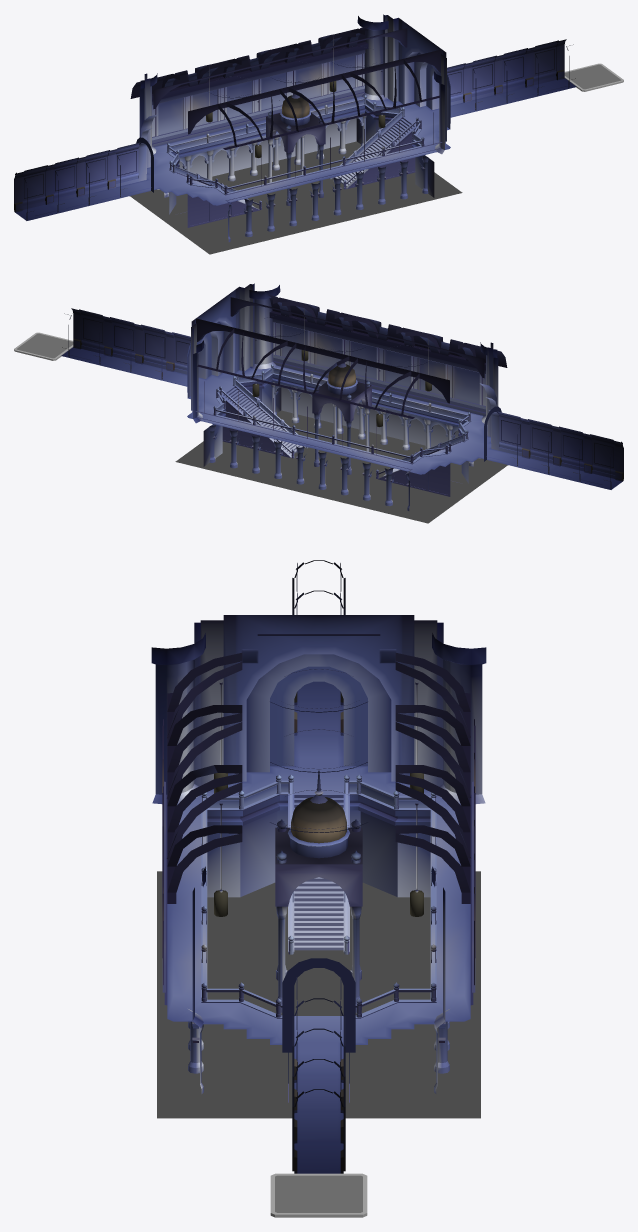
Rendered from NPRotatingRoomUpright.gltf.
The picture shows the model from 3 angles, top to bottom: view 1: azimuth 30°, elevation 25°; view 2: azimuth 150°, elevation 25°; view 3: azimuth 270°, elevation 25°; orthographic projection. The views are drawn at different scales.
Visible parts, largest first — view 1: stg071_o25_Mesh_0021, stg071_w25_Mesh_0000, stg071_o25_Mesh_0015, stg071_o25_Mesh_0034, stg071_o25_Mesh_0002, stg071_o25_Mesh_0060, stg071_o25_Mesh_0001, stg071_o25_Mesh_0007, stg071_o25_Mesh_0048, stg071_o25_Mesh_0058, stg071_o25_Mesh_0000, stg071_o25_Mesh_0041 (+8 smaller); view 2: stg071_o25_Mesh_0021, stg071_w25_Mesh_0000, stg071_o25_Mesh_0015, stg071_o25_Mesh_0034, stg071_o25_Mesh_0002, stg071_o25_Mesh_0060, stg071_o25_Mesh_0001, stg071_o25_Mesh_0007, stg071_o25_Mesh_0048, stg071_o25_Mesh_0058, stg071_o25_Mesh_0000, stg071_o25_Mesh_0041 (+8 smaller); view 3: stg071_w25_Mesh_0000, stg071_o25_Mesh_0034, stg071_o25_Mesh_0021, stg071_o25_Mesh_0015, stg071_o25_Mesh_0001, stg071_o25_Mesh_0058, stg071_o25_Mesh_0060, stg071_o25_Mesh_0030, stg071_o25_Mesh_0041, stg071_o25_Mesh_0009, stg071_o25_Mesh_0002, stg071_o25_Mesh_0048 (+8 smaller).
Part boxes in pixels (x1,y1,x2,y2): stg071_o25_Mesh_0021: (14,16,575,239); stg071_w25_Mesh_0000: (130,141,462,254); stg071_o25_Mesh_0015: (24,28,566,236); stg071_o25_Mesh_0034: (149,14,446,217); stg071_o25_Mesh_0002: (22,40,557,227); stg071_o25_Mesh_0060: (14,35,573,227); stg071_o25_Mesh_0001: (18,49,572,219); stg071_o25_Mesh_0007: (16,47,574,225); stg071_o25_Mesh_0048: (22,17,558,241); stg071_o25_Mesh_0058: (157,115,434,214); stg071_o25_Mesh_0000: (24,49,553,198); stg071_o25_Mesh_0041: (22,46,556,203); stg071_o25_Mesh_0021: (62,285,623,508); stg071_w25_Mesh_0000: (175,410,507,523); stg071_o25_Mesh_0015: (71,297,613,505); stg071_o25_Mesh_0034: (191,283,488,486); stg071_o25_Mesh_0002: (80,309,615,496); stg071_o25_Mesh_0060: (64,304,623,496); stg071_o25_Mesh_0001: (65,318,619,488); stg071_o25_Mesh_0007: (63,316,621,494); stg071_o25_Mesh_0048: (79,286,615,510); stg071_o25_Mesh_0058: (203,384,480,483); stg071_o25_Mesh_0000: (84,318,613,467); stg071_o25_Mesh_0041: (81,315,615,472); stg071_w25_Mesh_0000: (157,871,480,1117); stg071_o25_Mesh_0034: (167,615,470,1042); stg071_o25_Mesh_0021: (151,562,486,1173); stg071_o25_Mesh_0015: (155,634,482,1165); stg071_o25_Mesh_0001: (173,699,464,1171); stg071_o25_Mesh_0058: (207,635,430,897); stg071_o25_Mesh_0060: (164,560,473,1106); stg071_o25_Mesh_0030: (238,615,399,697); stg071_o25_Mesh_0041: (173,666,464,1041); stg071_o25_Mesh_0009: (167,689,470,1173); stg071_o25_Mesh_0002: (167,569,470,1090); stg071_o25_Mesh_0048: (155,615,482,1093).
Bounding box in the file's own units: 221 × 45.61 × 54.05.
